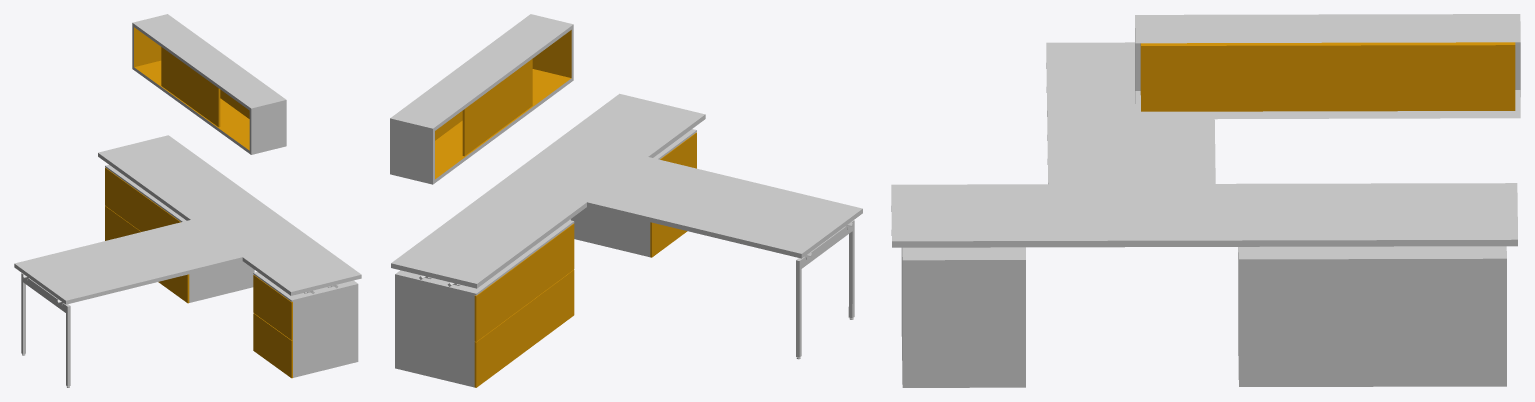
The model's file is CabinTable.fbx.
The picture shows the model from 3 angles, left to right: view 1: azimuth 30°, elevation 25°; view 2: azimuth 150°, elevation 25°; view 3: azimuth 270°, elevation 25°; orthographic projection. The views are drawn at different scales.
Visible parts, largest first — view 1: Table; view 2: Table; view 3: Table.
Boxes of the visible parts, box(x1,y1,x2,y2) form: Table: box(14, 14, 361, 387); Table: box(390, 14, 862, 387); Table: box(891, 14, 1520, 387).
Size of the model in its own units: 214 by 173 by 286.
